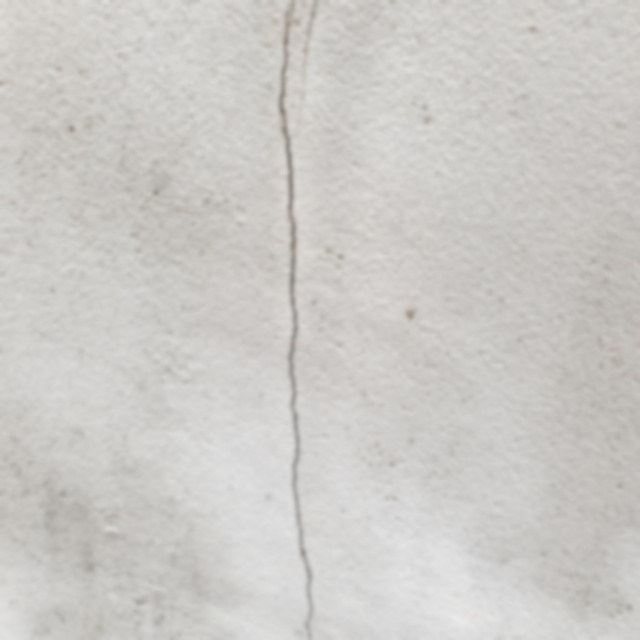SurfaceCrack: (239, 1, 357, 640)
